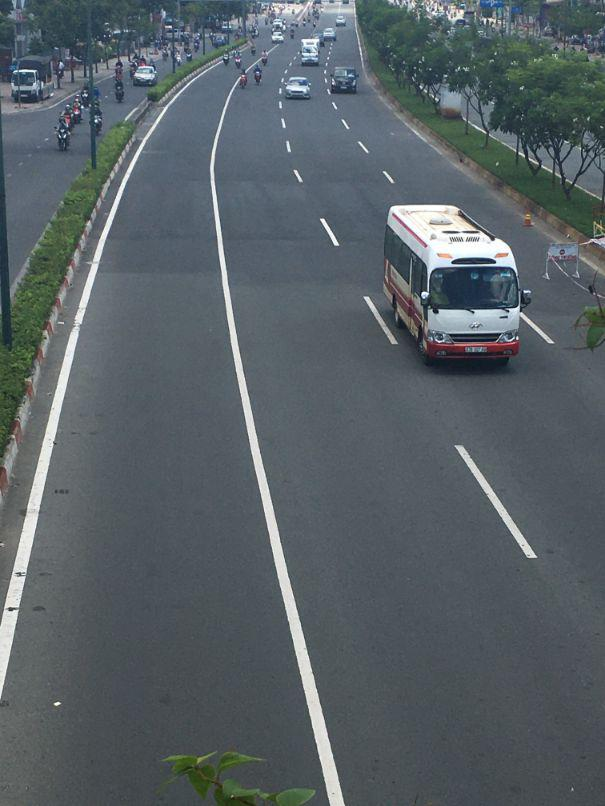bus: (381, 203, 523, 366)
car: (285, 77, 310, 100), (301, 41, 321, 68), (133, 66, 157, 86)
motorbike: (56, 122, 71, 149), (241, 74, 249, 87)
truck: (12, 51, 58, 103), (333, 67, 358, 94)
